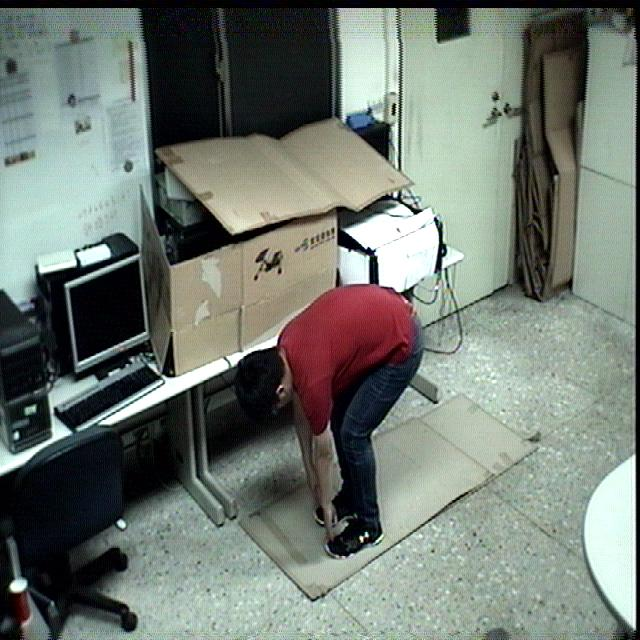bend: (228, 274, 427, 564)
